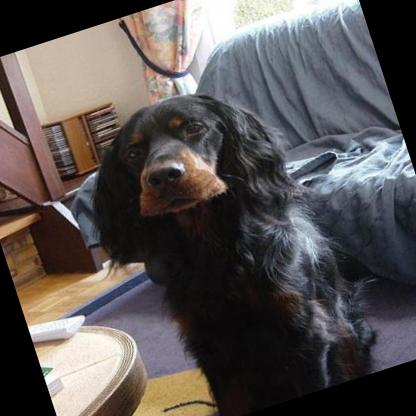Gordon_setter: (53, 54, 402, 416)
